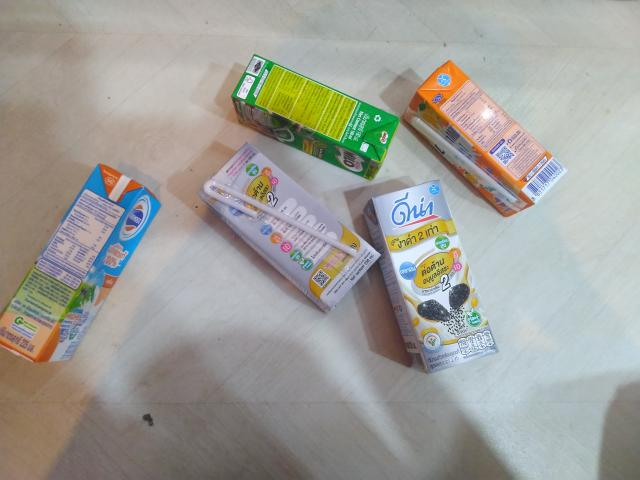drink_box: (0, 154, 184, 394), (186, 134, 395, 326), (353, 167, 519, 393), (396, 44, 579, 236), (211, 40, 407, 192)
